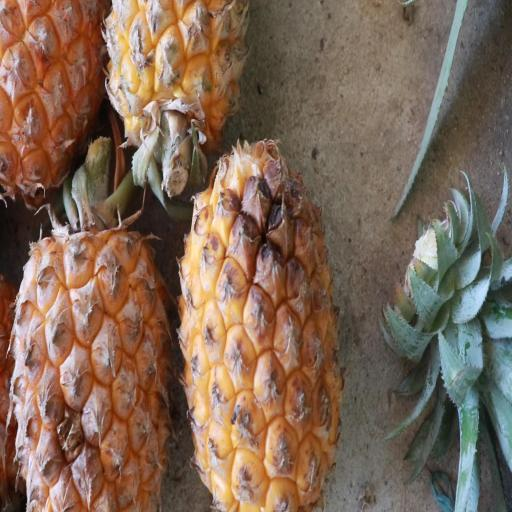Pineapple - v8 v1: (172, 127, 340, 512), (7, 189, 170, 512), (102, 0, 245, 162), (0, 0, 109, 201)
